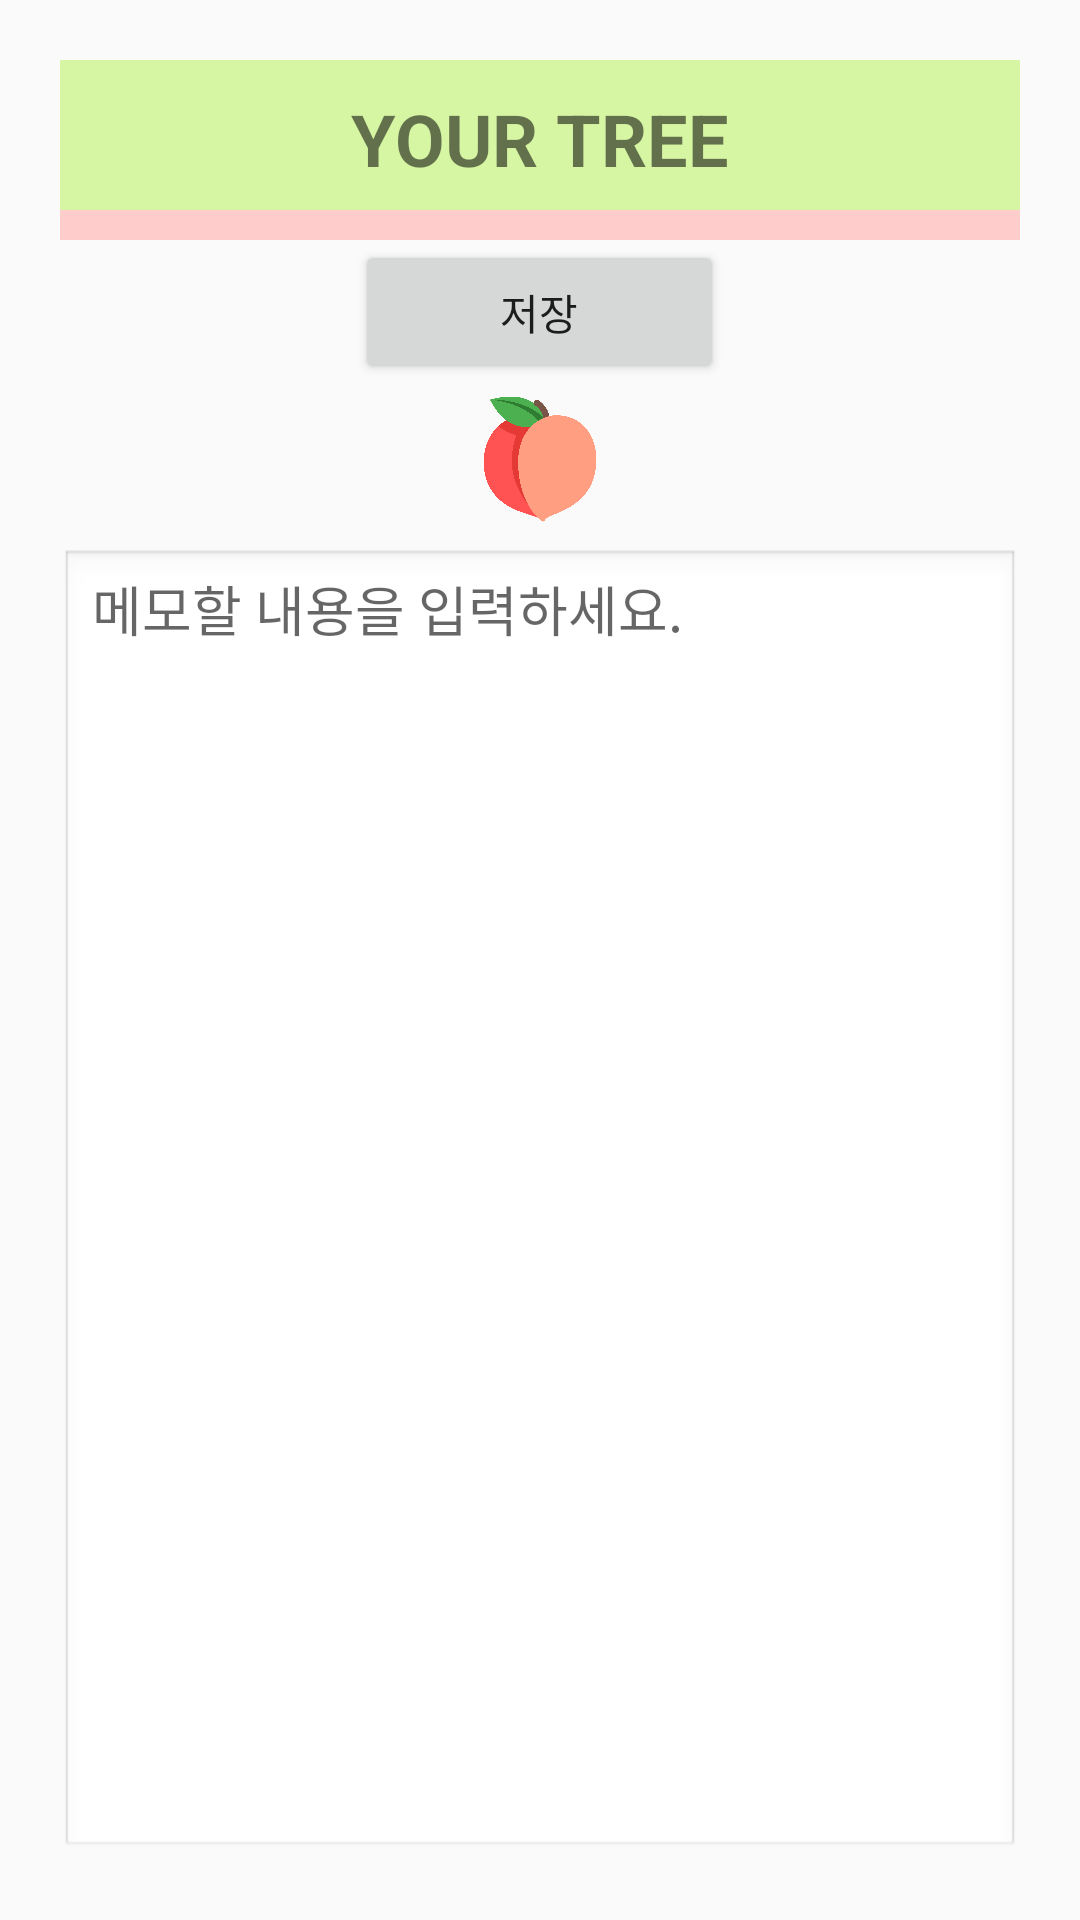

Locate icon controls on the screen. Image size 1080 x 1920, boxes as (x1, y1, x2, y2).
peach: (484, 397, 596, 522)
